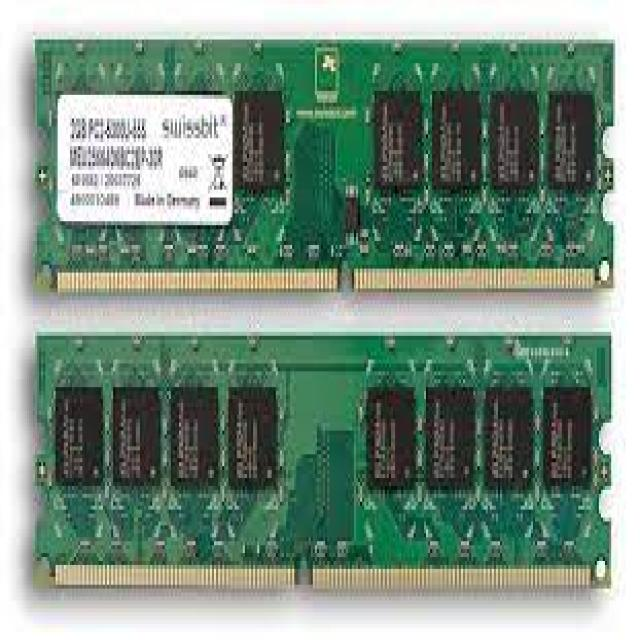Ram: (27, 48, 630, 599)
